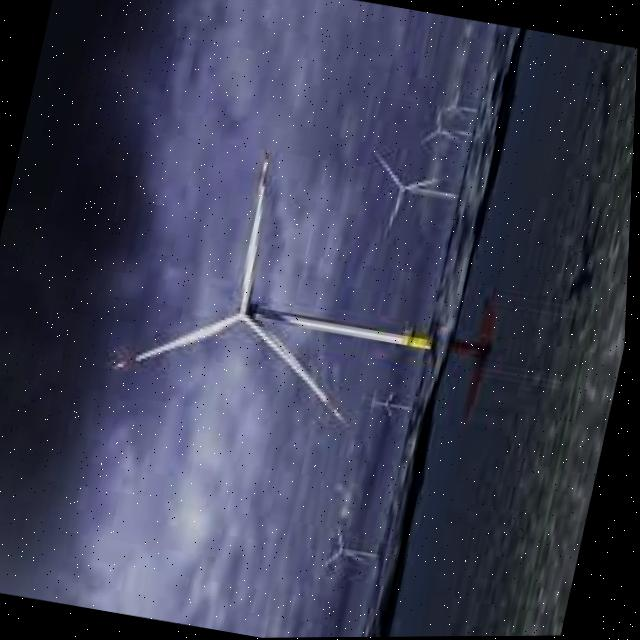solid-blade: (248, 317, 351, 422), (138, 312, 250, 360), (242, 157, 269, 314)
wind-turbine: (141, 154, 437, 423)
